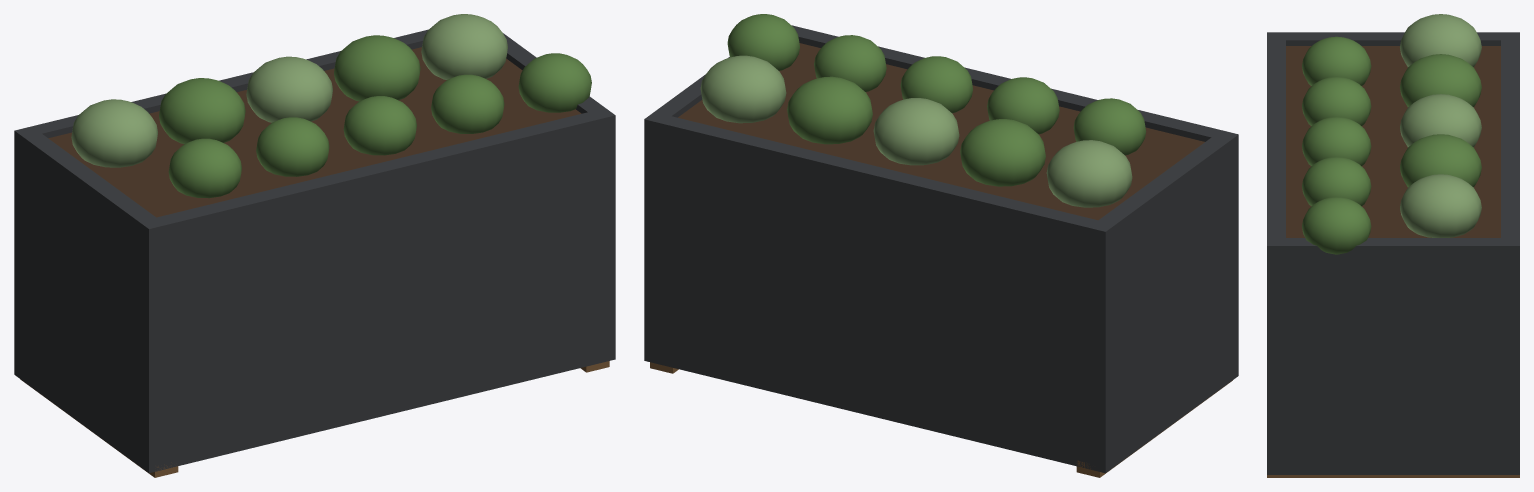
The picture shows the model from 3 angles, left to right: view 1: azimuth 30°, elevation 25°; view 2: azimuth 150°, elevation 25°; view 3: azimuth 270°, elevation 25°; orthographic projection. The views are drawn at different scales.
Visible parts, largest first — view 1: box-primary (×4), sphere-leaf (×7), box-soil, sphere-leaf2 (×3); view 2: box-primary (×4), sphere-leaf (×7), box-soil, sphere-leaf2 (×3); view 3: box-primary (×4), sphere-leaf (×7), box-soil, sphere-leaf2 (×3), box-darkwood.
Boxes of the visible parts, <box> form: box-primary (×4): <box>14,29,615,473</box>; sphere-leaf (×7): <box>159,35,591,198</box>; box-soil: <box>48,47,581,217</box>; sphere-leaf2 (×3): <box>71,14,507,167</box>; box-primary (×4): <box>644,25,1238,473</box>; sphere-leaf (×7): <box>727,14,1146,186</box>; box-soil: <box>678,43,1204,220</box>; sphere-leaf2 (×3): <box>700,55,1132,207</box>; box-primary (×4): <box>1267,32,1519,474</box>; sphere-leaf (×7): <box>1302,36,1481,254</box>; box-soil: <box>1286,46,1500,237</box>; sphere-leaf2 (×3): <box>1400,14,1481,237</box>; box-darkwood: <box>1267,475,1519,477</box>.
Bounding box in the file's own units: 1.63 × 0.96 × 0.8.
